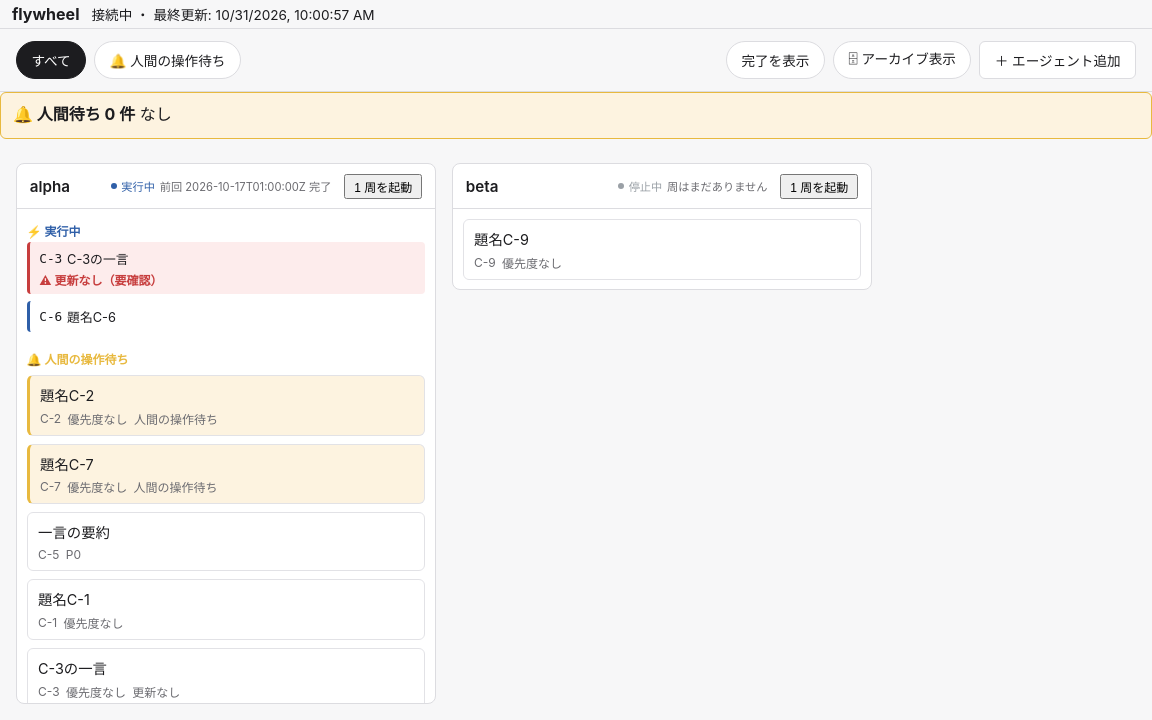
取り下げた課題は完了と同じ扱い: 既定で隠れ、「完了を表示」で完了と同じ列に出て、表示名は「取り下げ」（AC-388）
Check: the text "題名C-1" is shown, box [38,591,90,608]
Click the button "完了を表示". click: point(775, 60)
box: [726,41,825,79]
(page scrolled)
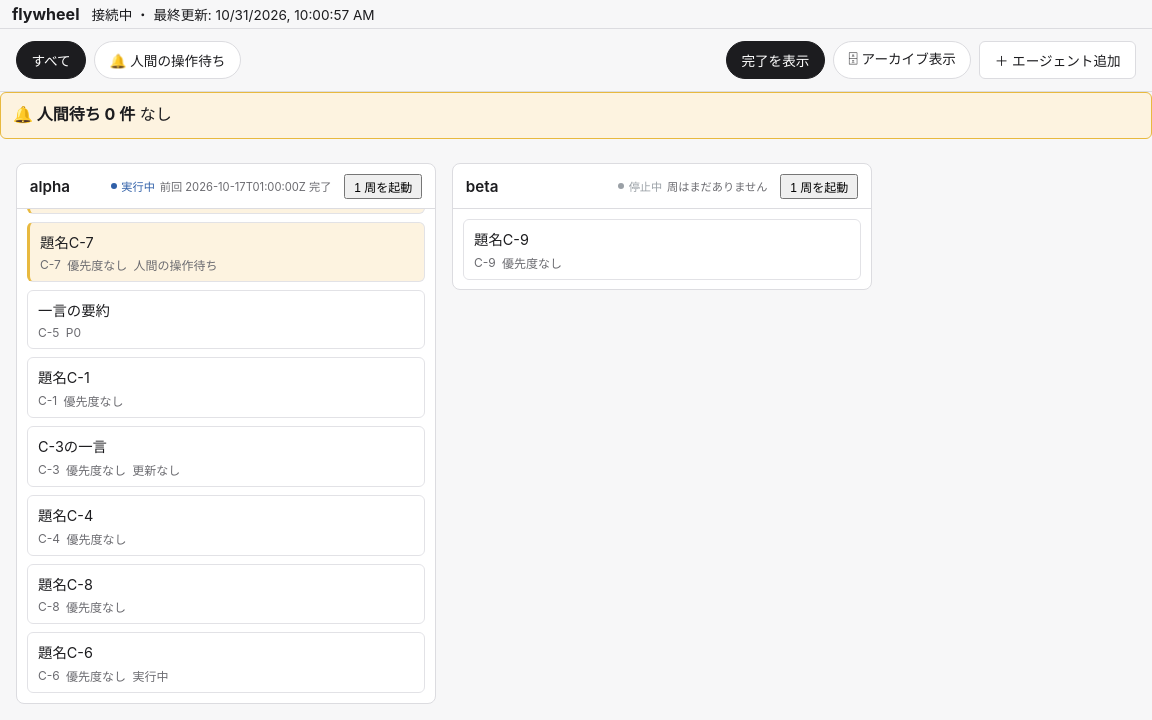
Check: the element with test id "card-C-4" is shown, box [27,495,425,556]
